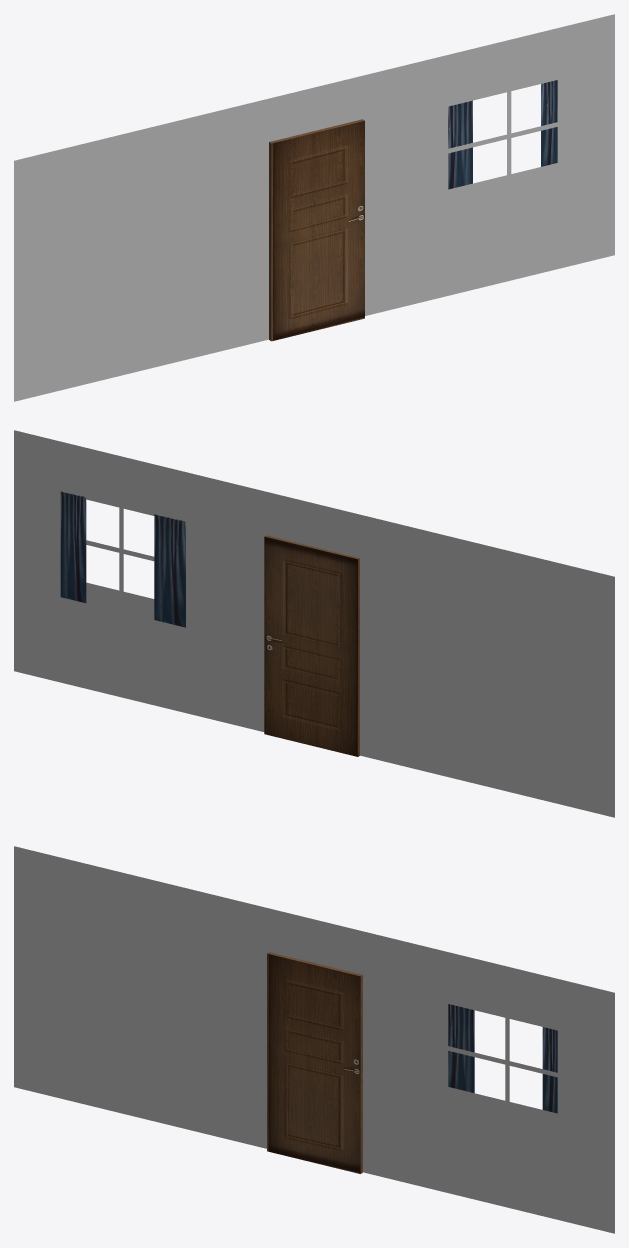
The model's file is DoorandCurtainWall.fbx.
3 renders of one model, top to bottom at view 1: azimuth 30°, elevation 25°; view 2: azimuth 150°, elevation 25°; view 3: azimuth 330°, elevation 25°, orthographic.
Parts seen in each view (by area): view 1: Plane, Cube, Plane.003, Plane.004, Plane.001, Plane.002; view 2: Plane, Cube, Plane.003, Plane.004; view 3: Plane, Cube, Plane.003, Plane.004, Plane.001, Plane.002.
Boxes of the visible parts, x1,y1,x2,y2 form: Plane: (14, 14, 614, 401); Cube: (269, 119, 364, 341); Plane.003: (448, 100, 472, 189); Plane.004: (541, 80, 557, 166); Plane.001: (437, 119, 569, 155); Plane.002: (507, 80, 511, 196); Plane: (14, 430, 614, 817); Cube: (264, 535, 359, 756); Plane.003: (154, 514, 185, 627); Plane.004: (60, 491, 86, 603); Plane: (14, 846, 614, 1233); Cube: (267, 952, 362, 1173); Plane.003: (448, 1004, 474, 1093); Plane.004: (542, 1027, 557, 1113); Plane.001: (436, 1043, 567, 1079); Plane.002: (505, 1007, 509, 1122).
Size of the model in its own units: 1094 by 420 by 12.1.
